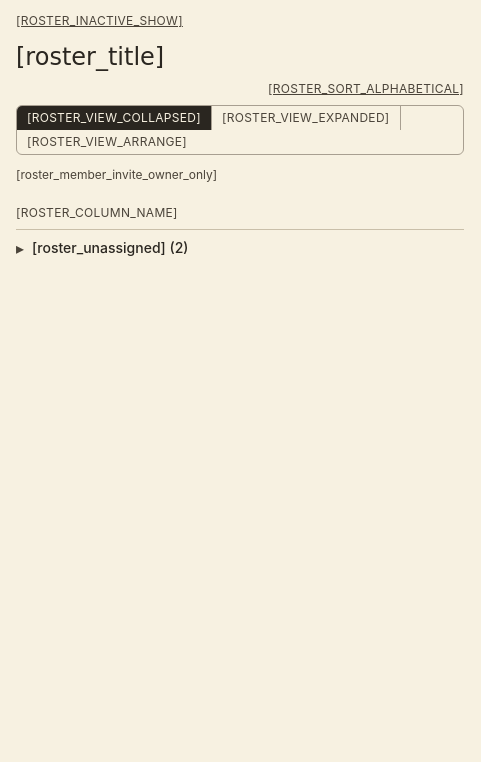
Scenario: (#283) phone guard — letters refuse the save; + and friends survive (name-required idiom) › CREATE path: 'tel: 555' refuses the save — its OWN role=alert copy, no write, no lookup re-read, no single-flight arming; sibling typed fields survive
Step 1. Click the button "▸ [roster_unassigned] (2)" → (110, 248), box [16,230,464,266]
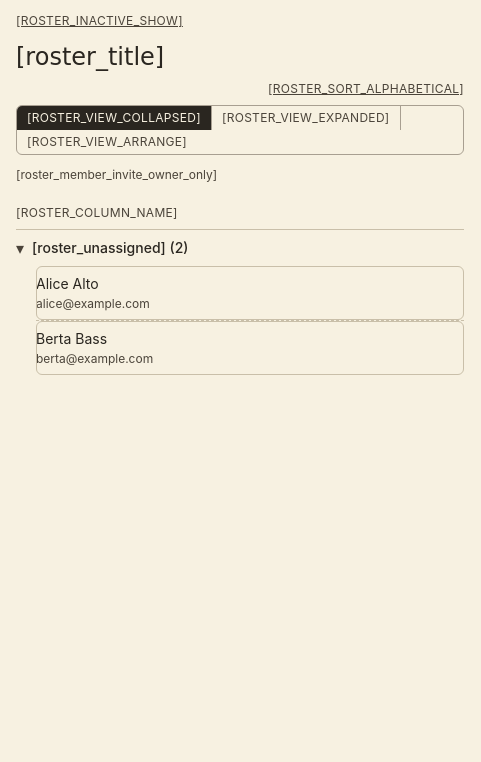
Step 2. Click the button without text next to "berta@example.com" → (250, 348), box [36,321,464,375]
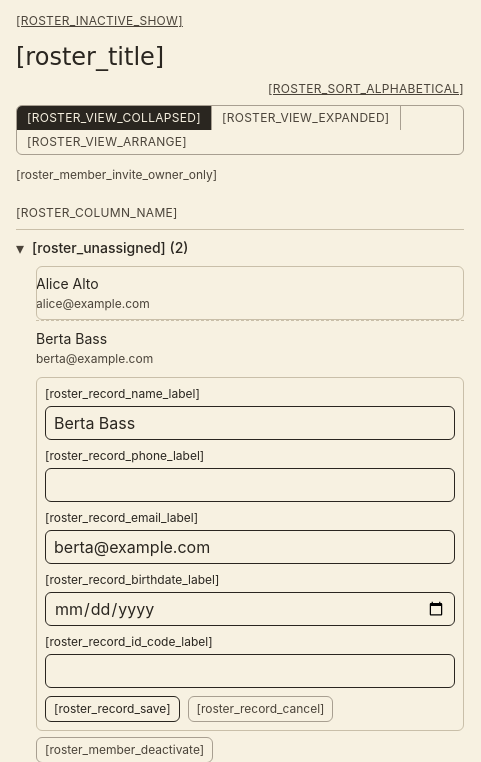
Check: the field with test id "roster-record-name" is shown
Step 3. Replace the text in the field with test id "roster-record-name" with "Berta Real" → (250, 423), box [45,406,455,440]
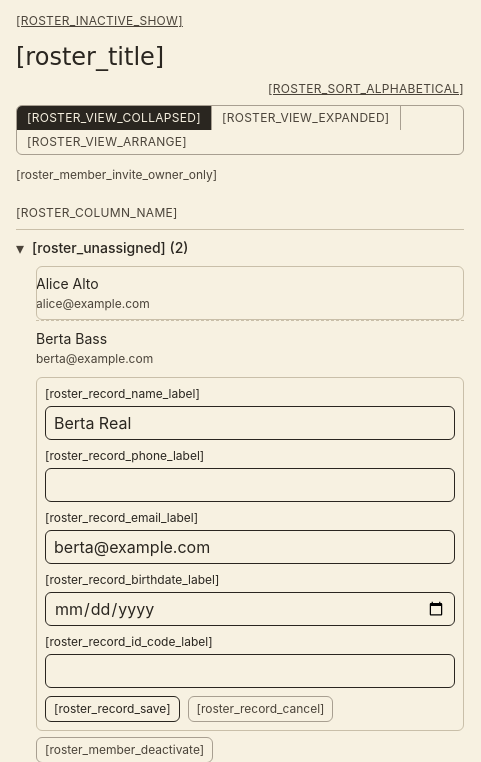
Step 4. Type "1990-03-15" into the date field with test id "roster-record-birthdate" → (250, 609), box [45,592,455,626]
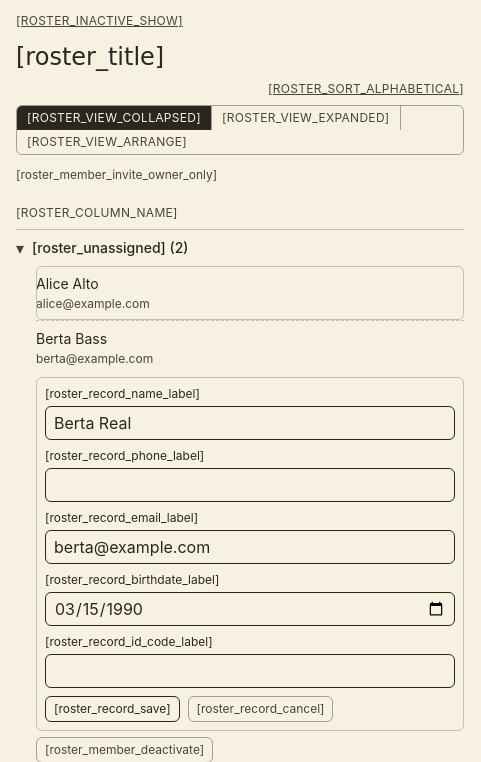
Step 5. Type "tel: 555" into the field with test id "roster-record-phone" → (250, 485), box [45,468,455,502]
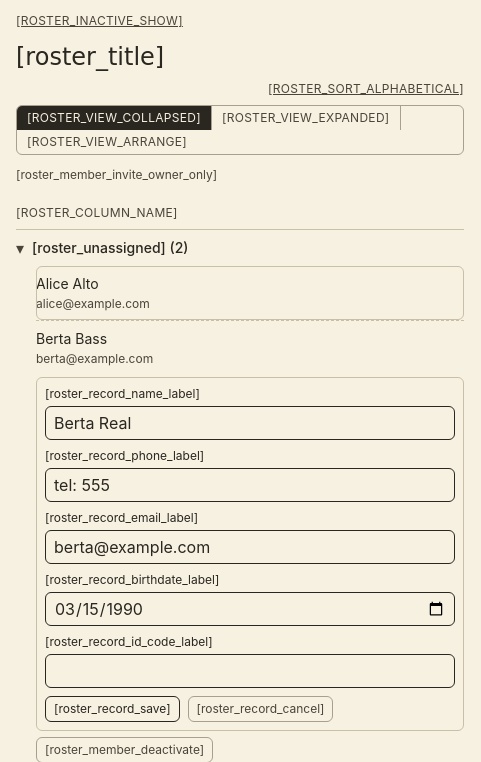
Step 6. Click the button "[roster_record_save]" → (112, 709), box [45,696,180,722]
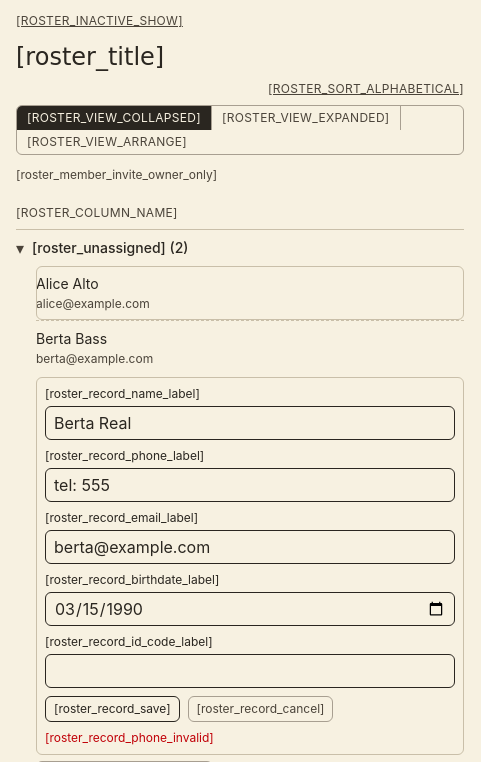
Check: the message "[roster_record_phone_invalid]" is shown, box [45,730,214,745]
